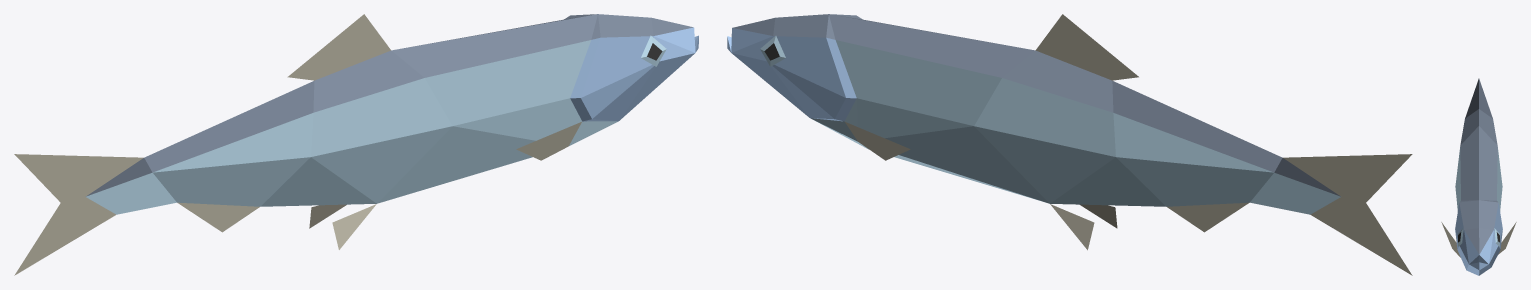
File: Herring.fbx
3 renders of one model, left to right at view 1: azimuth 30°, elevation 25°; view 2: azimuth 150°, elevation 25°; view 3: azimuth 270°, elevation 25°, orthographic. The views are drawn at different scales.
Visible parts, largest first — view 1: Herring; view 2: Herring; view 3: Herring.
Part boxes in pixels (x1,y1,x2,y2): Herring: [14, 14, 698, 275]; Herring: [727, 14, 1412, 275]; Herring: [1441, 78, 1516, 275].
Size of the model in its own units: 1.55 by 0.4678 by 0.2301.
